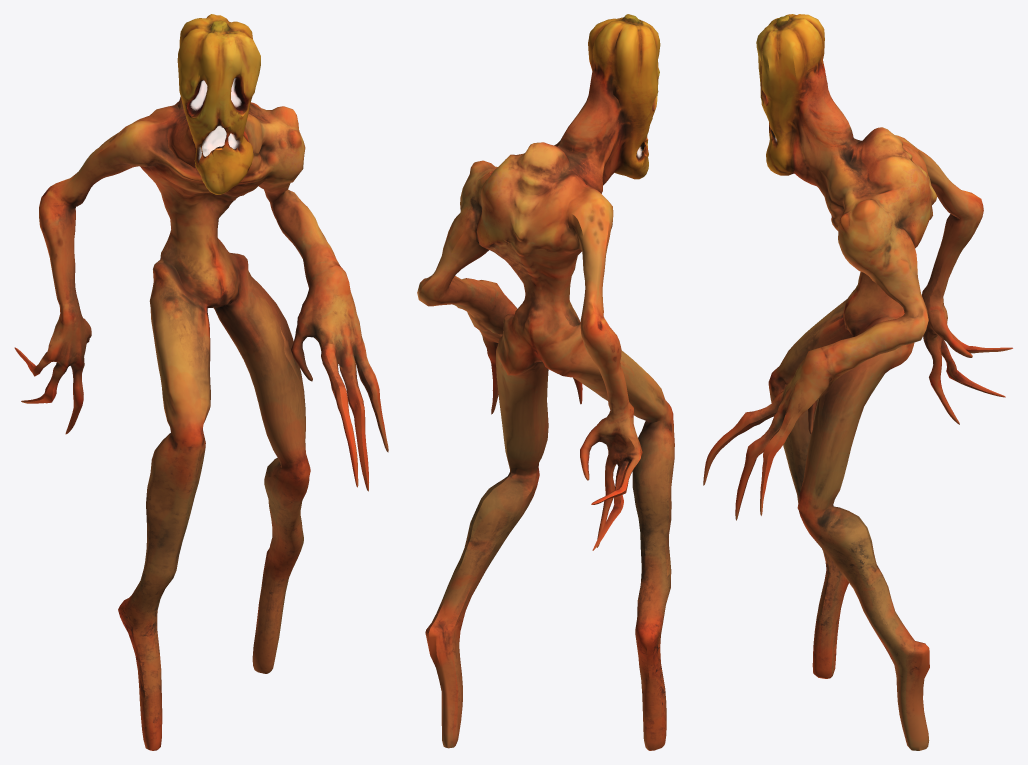
File: halloween_creature.glb
The picture shows the model from 3 angles, left to right: view 1: azimuth 30°, elevation 25°; view 2: azimuth 150°, elevation 25°; view 3: azimuth 270°, elevation 25°; orthographic projection. The views are drawn at different scales.
Visible parts, largest first — view 1: Object_4; view 2: Object_4; view 3: Object_4.
Boxes of the visible parts, x1,y1,x2,y2 form: Object_4: (14,14,388,750); Object_4: (417,14,674,750); Object_4: (703,14,1012,750).
Size of the model in its own units: 0.7684 by 2.15 by 0.8862.
1 material, 1 textured.
